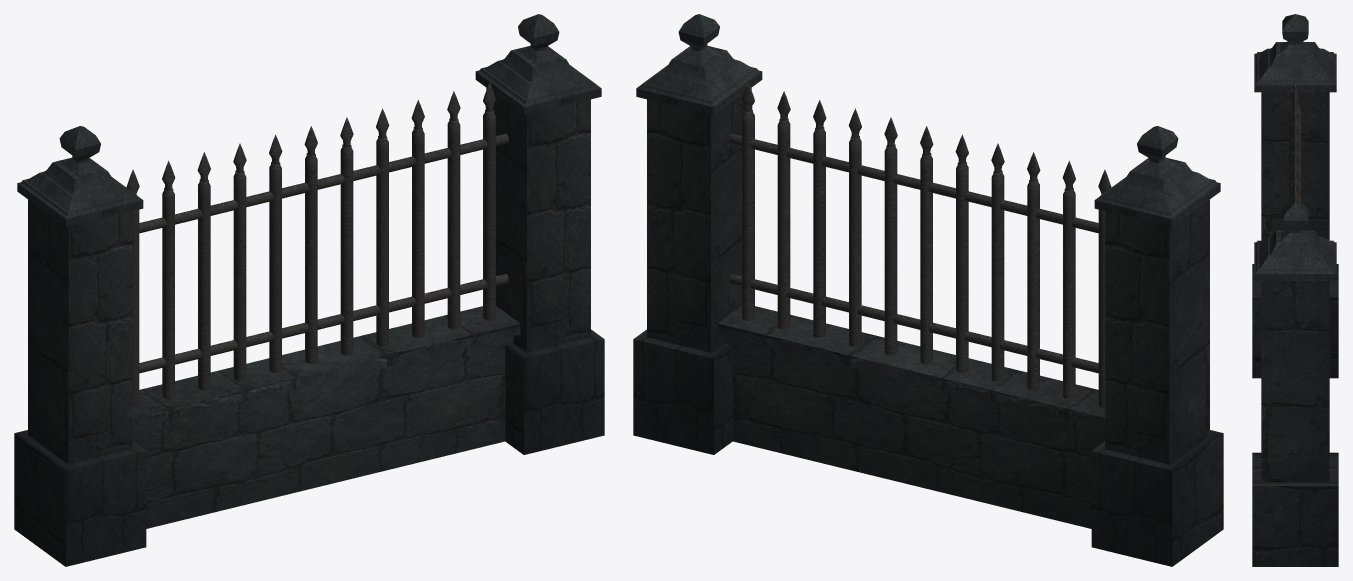
The model's file is REJA_1Asset.fbx.
3 views of the same model, side by side, from view 1: azimuth 30°, elevation 25°; view 2: azimuth 150°, elevation 25°; view 3: azimuth 270°, elevation 25° (orthographic). The views are drawn at different scales.
Parts seen in each view (by area): view 1: Cube, BézierCurve; view 2: Cube, BézierCurve; view 3: Cube, BézierCurve.
Part boxes in pixels (<box>): Cube: <box>14,14,604,566</box>; BézierCurve: <box>126,82,508,407</box>; Cube: <box>633,14,1223,566</box>; BézierCurve: <box>729,82,1111,407</box>; Cube: <box>1252,14,1338,566</box>; BézierCurve: <box>1289,83,1301,203</box>.
Bounding box in the file's own units: 257 × 188 × 42.34.
Materials: 2 (2 with a texture image).
